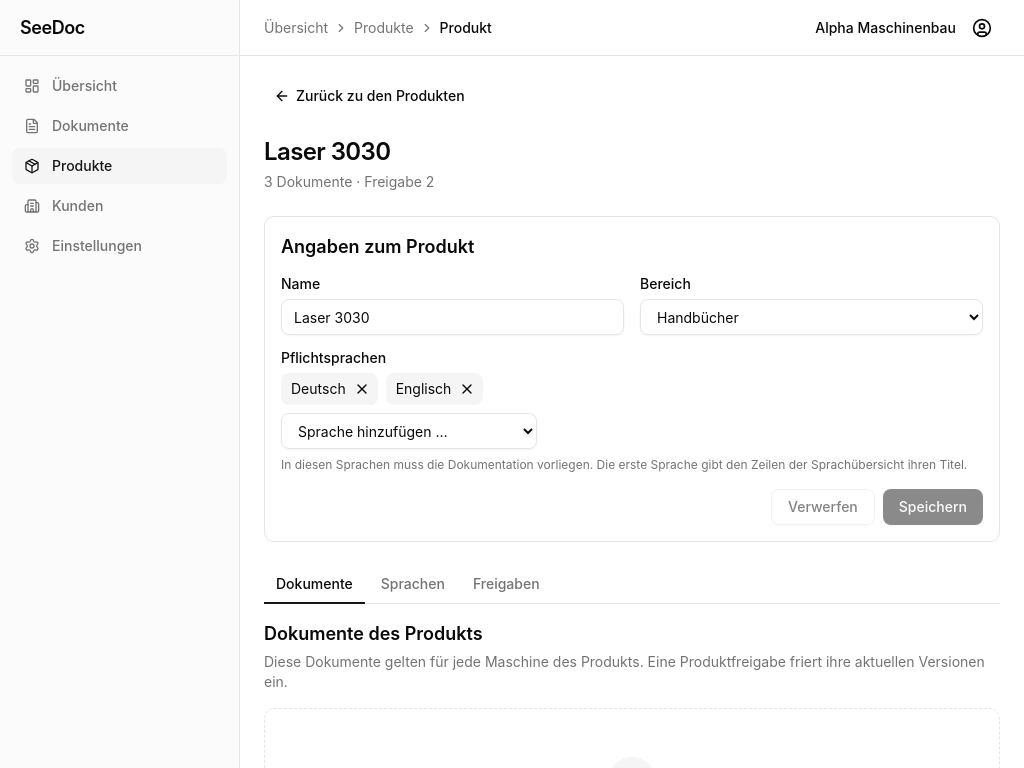
Test: ProductDetailPage › shows a failed save in the form
The image size is (1024, 768).
Select "Zertifikate" in the dropdown labelled "Bereich": point(812, 317) [640,299,983,335]
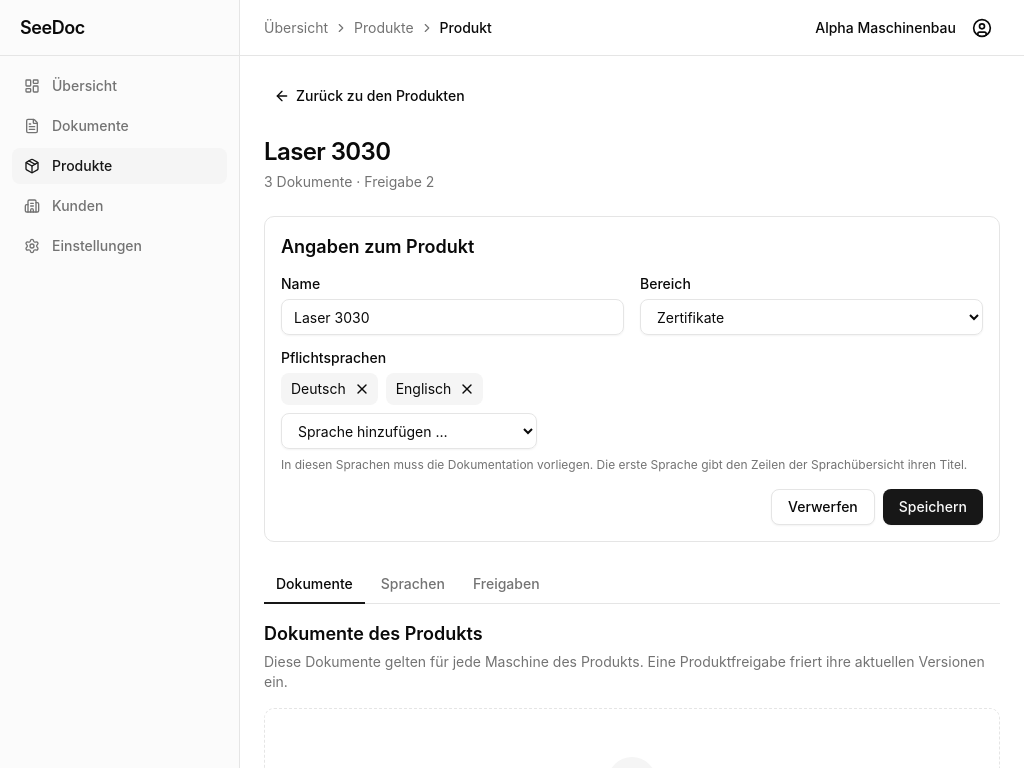
Click the button "Speichern": point(933, 507) [883,489,983,525]
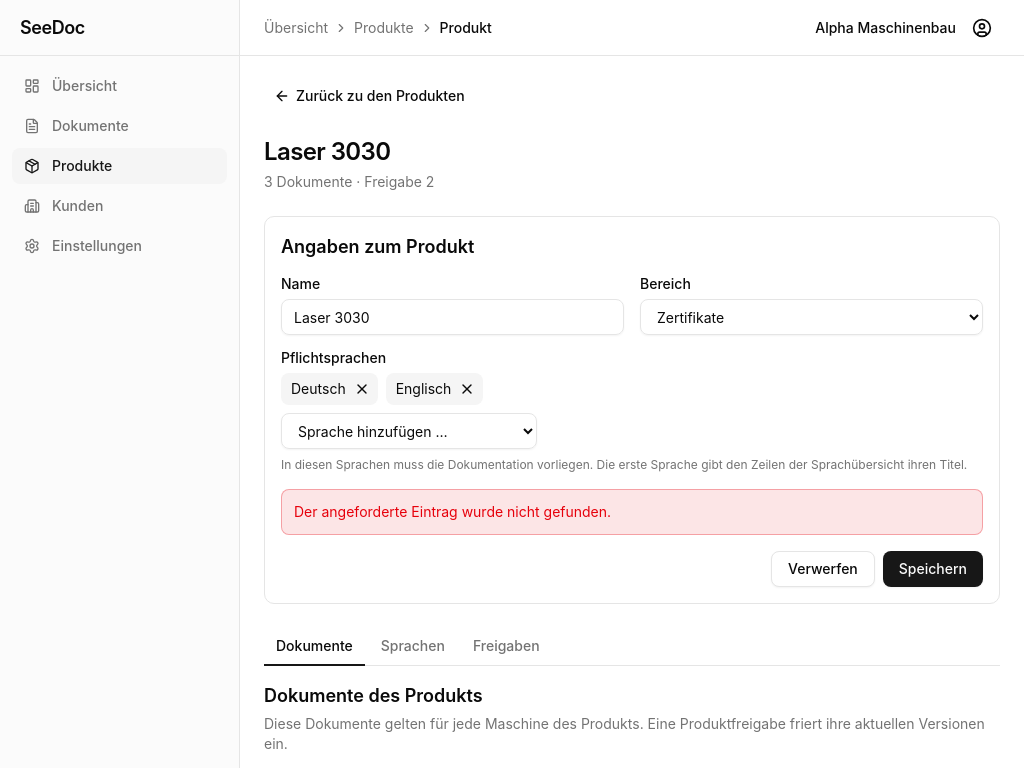
Expected: the message reads "Der angeforderte Eintrag wurde nicht gefunden.", [294,503,611,520]
